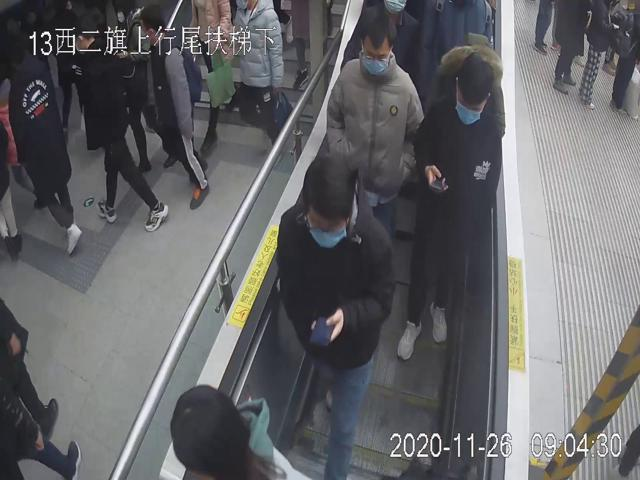person: (275, 157, 398, 478), (398, 45, 508, 360), (68, 14, 167, 232), (327, 3, 426, 214), (11, 36, 82, 256), (145, 12, 210, 210)
